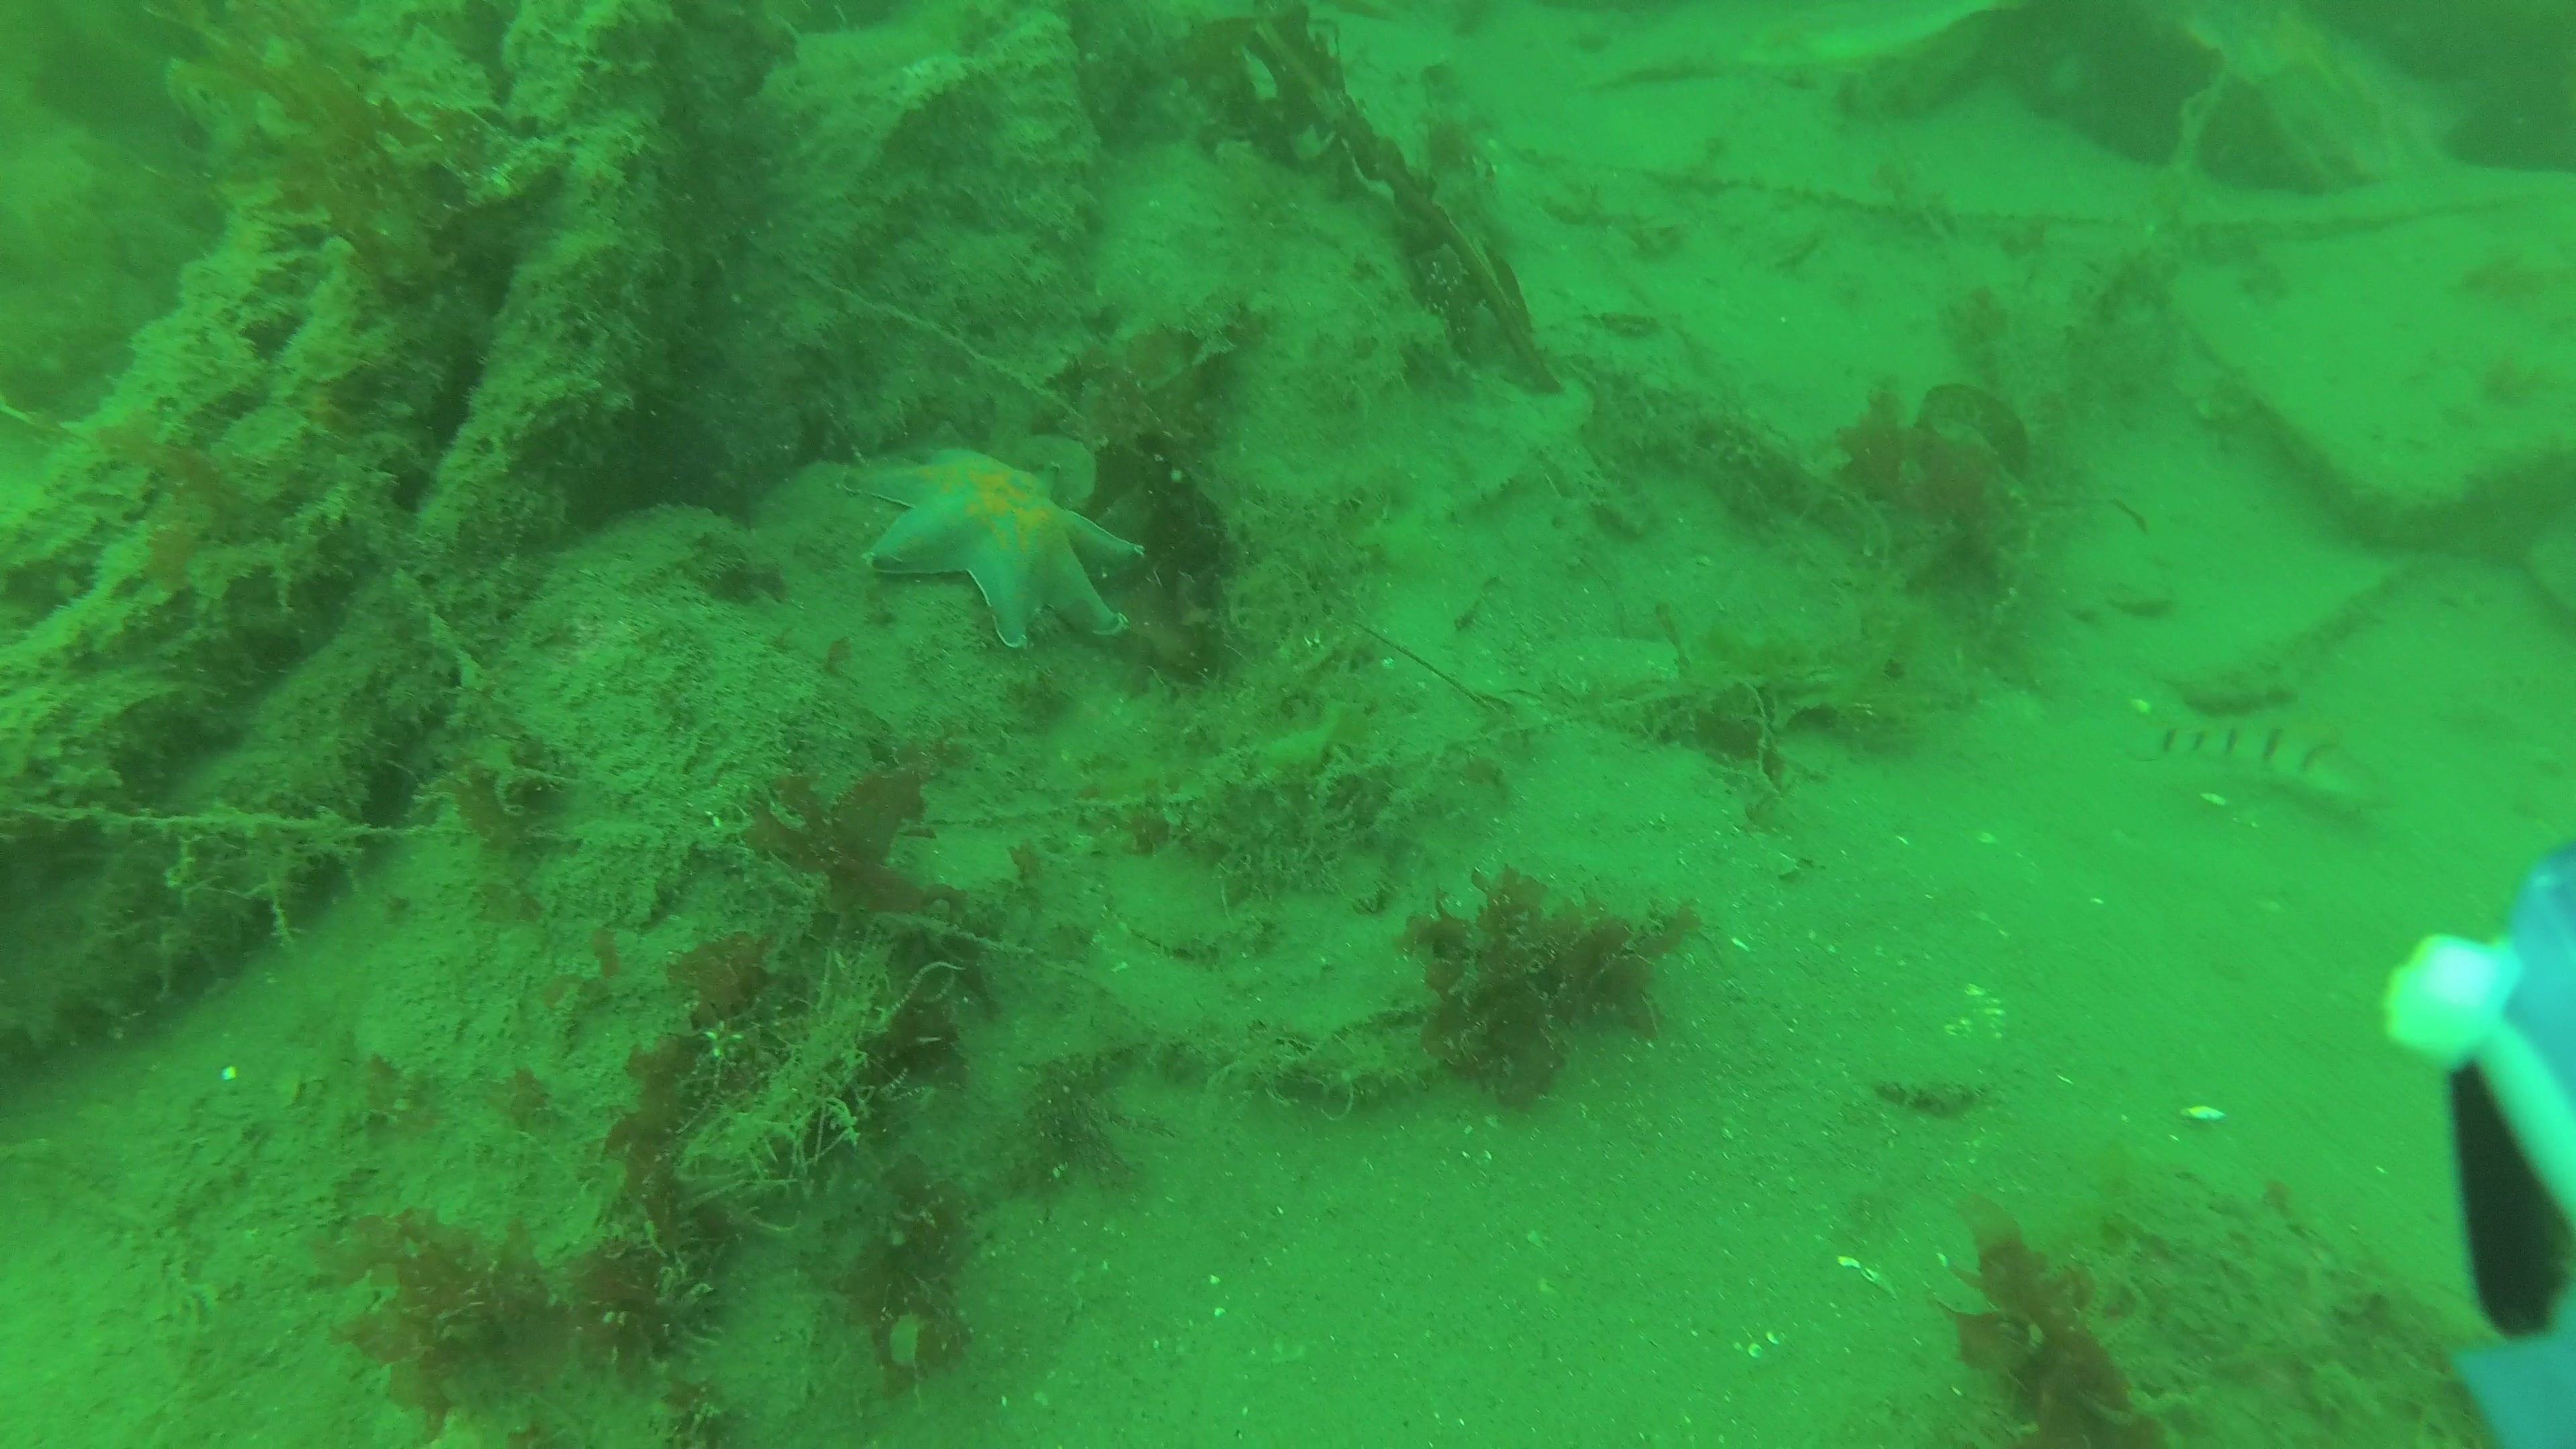starfish: (842, 446, 1141, 644)
